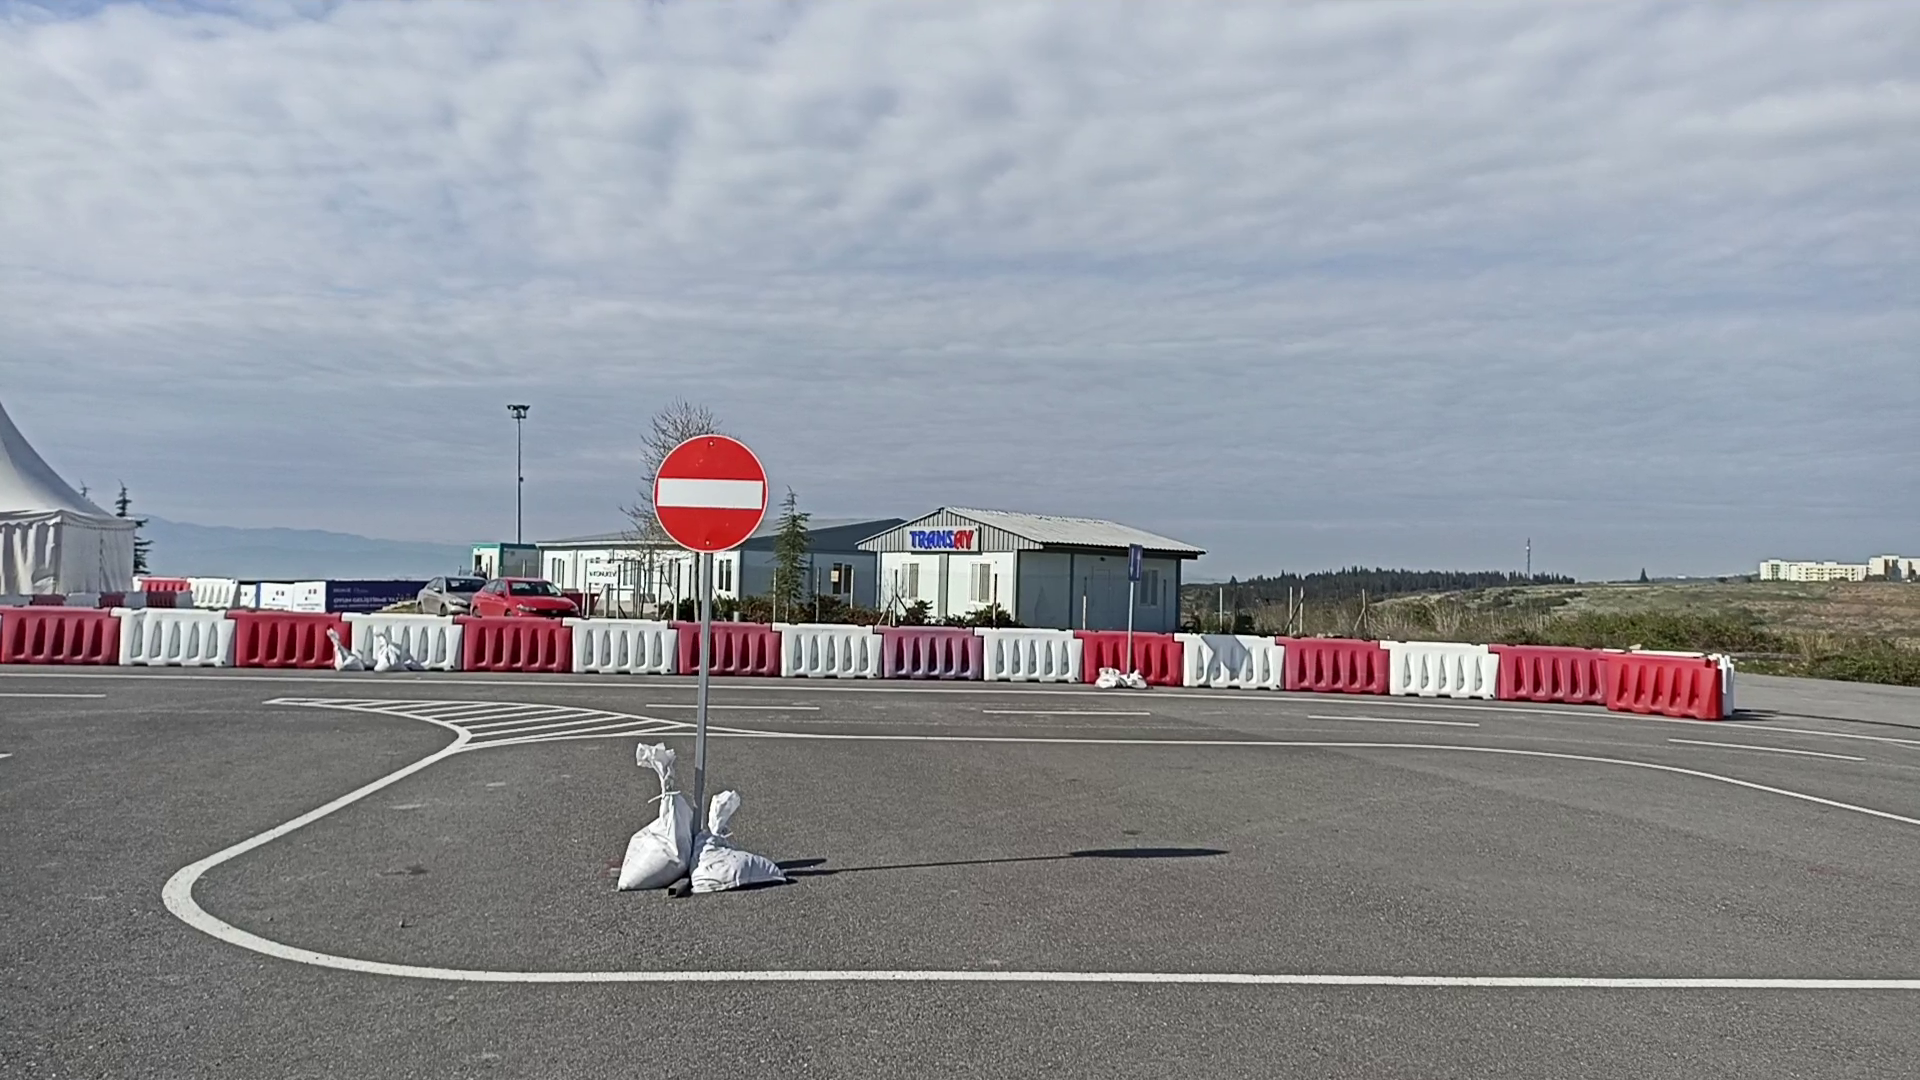noentryway: (649, 433, 771, 554)
